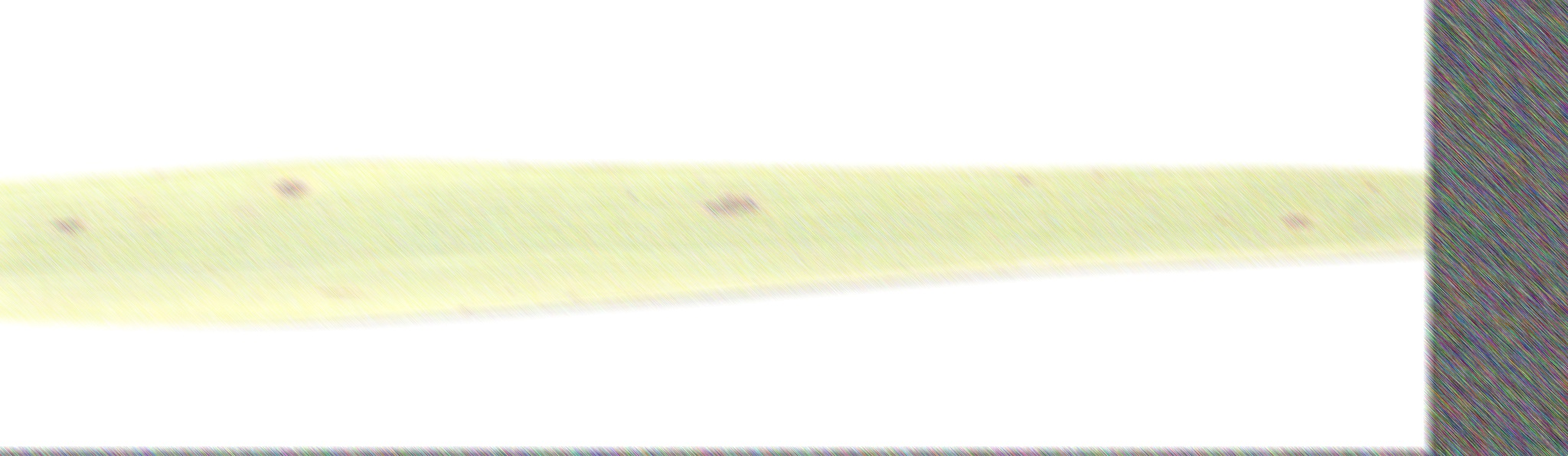Bacterial_Leaf_Blight: (675, 178, 801, 221), (258, 172, 333, 199), (1273, 199, 1319, 235), (45, 213, 93, 241)
